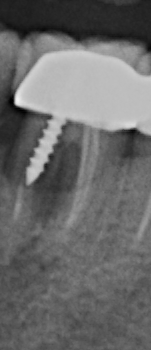fracture: (7, 187, 25, 223)
